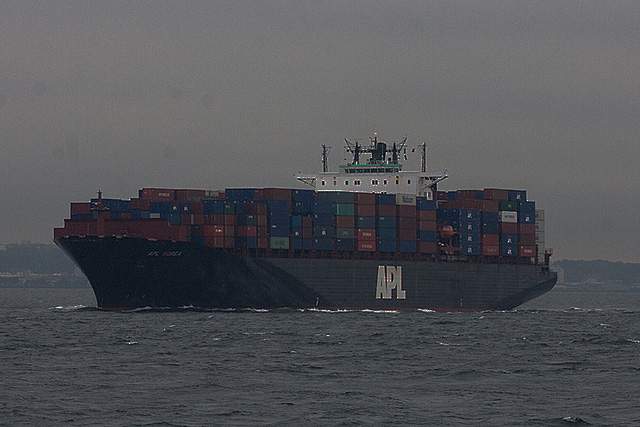container_ship: (49, 132, 561, 315)
